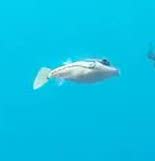smallfish: (32, 52, 125, 90)
